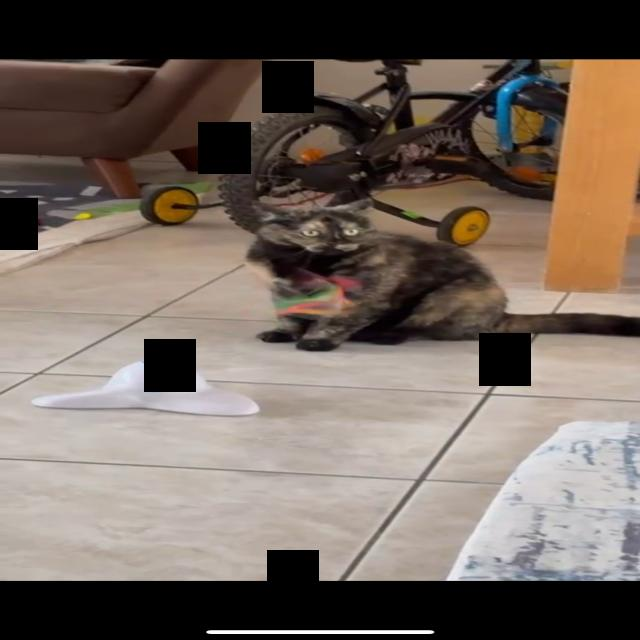authorized: (243, 198, 639, 352)
